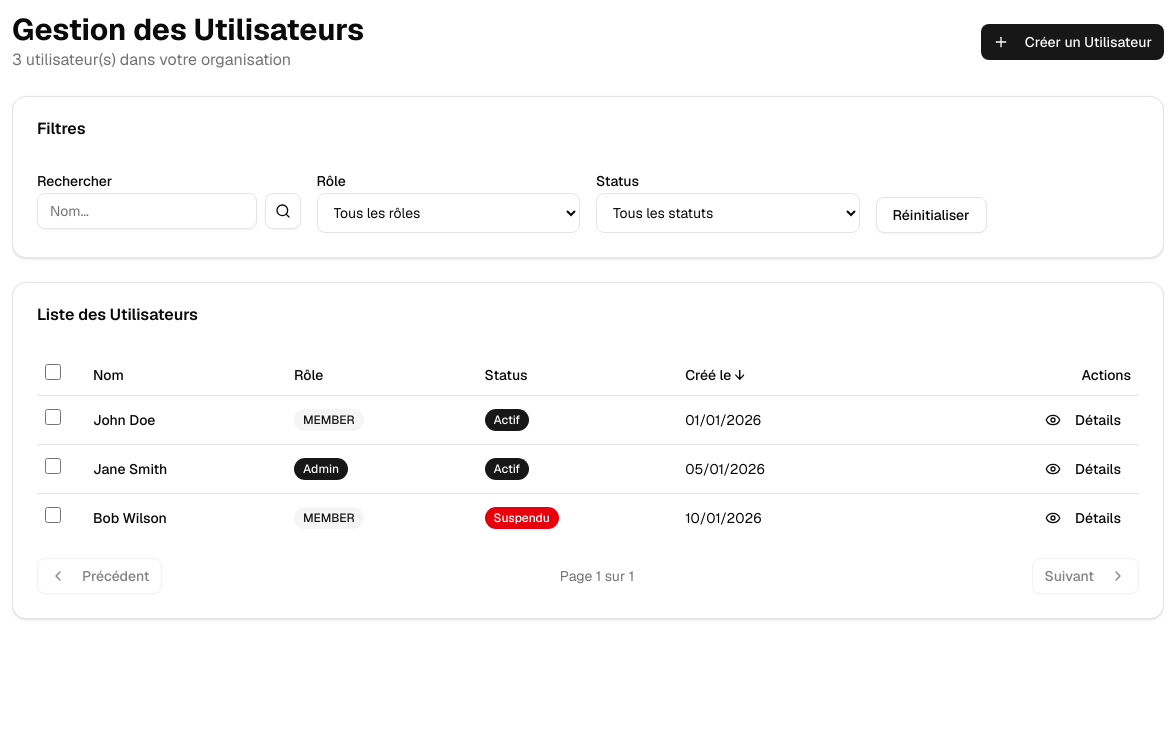
Test: TenantUsersPage › User Selection › [USERS-031] shows bulk actions when users selected
Expected: the text "sélectionné(s)" is not shown
Note: Select first user
Click the checkbox named "Sélectionner John Doe" at (53, 417), box [45,409,61,425]
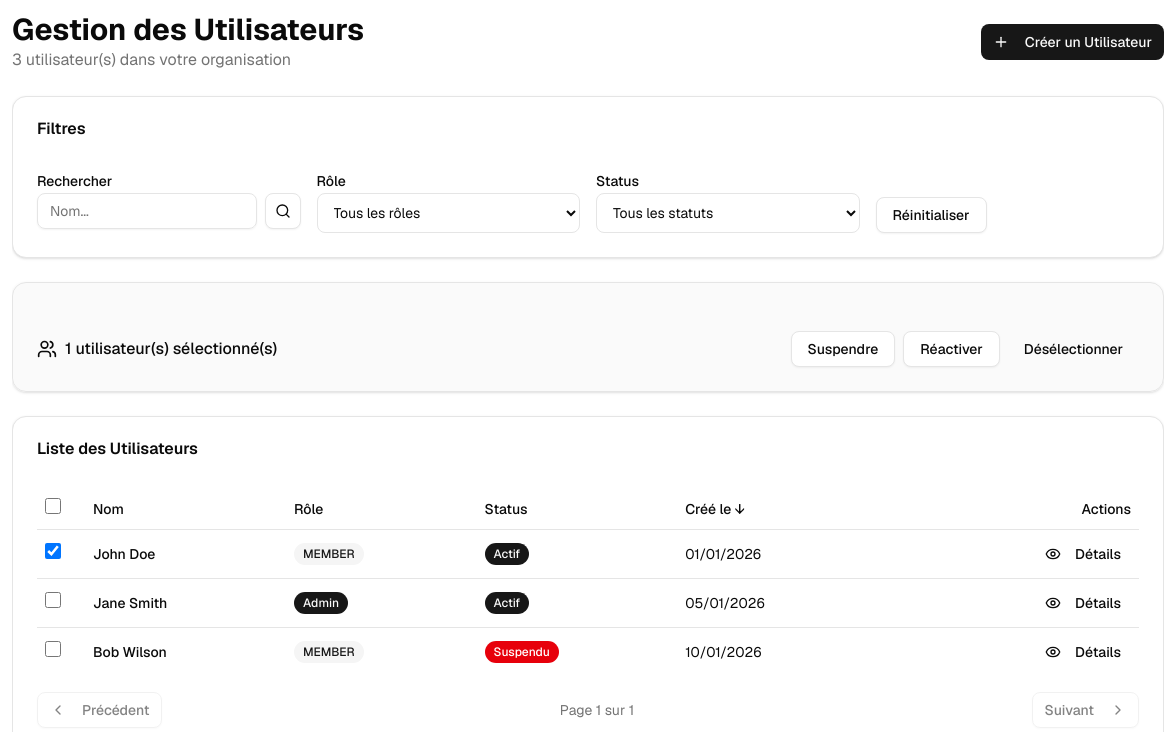
Expected: the text "1 utilisateur(s) sélectionné(s)" is shown, [65,337,277,361]
